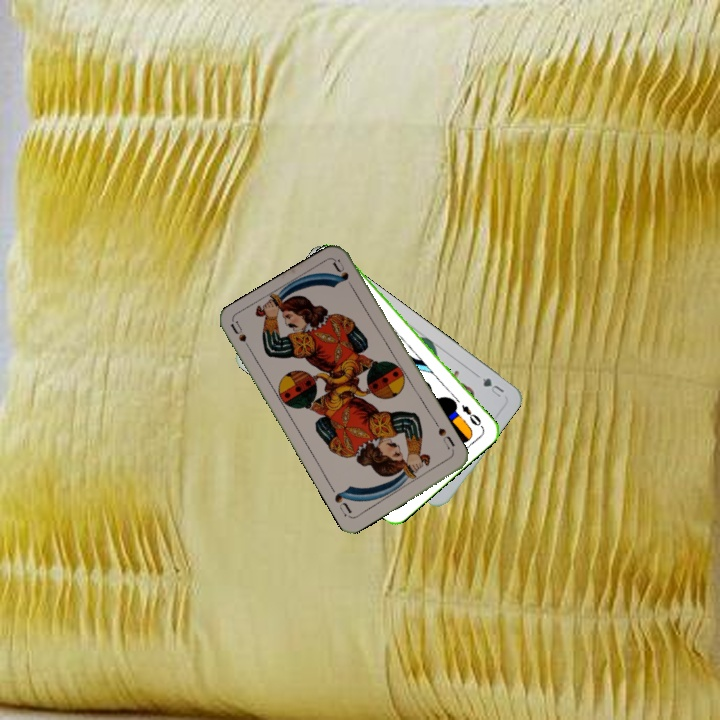EO: (457, 401, 486, 430)
GU: (478, 374, 507, 400)
SU: (227, 318, 256, 356), (434, 424, 457, 456)
